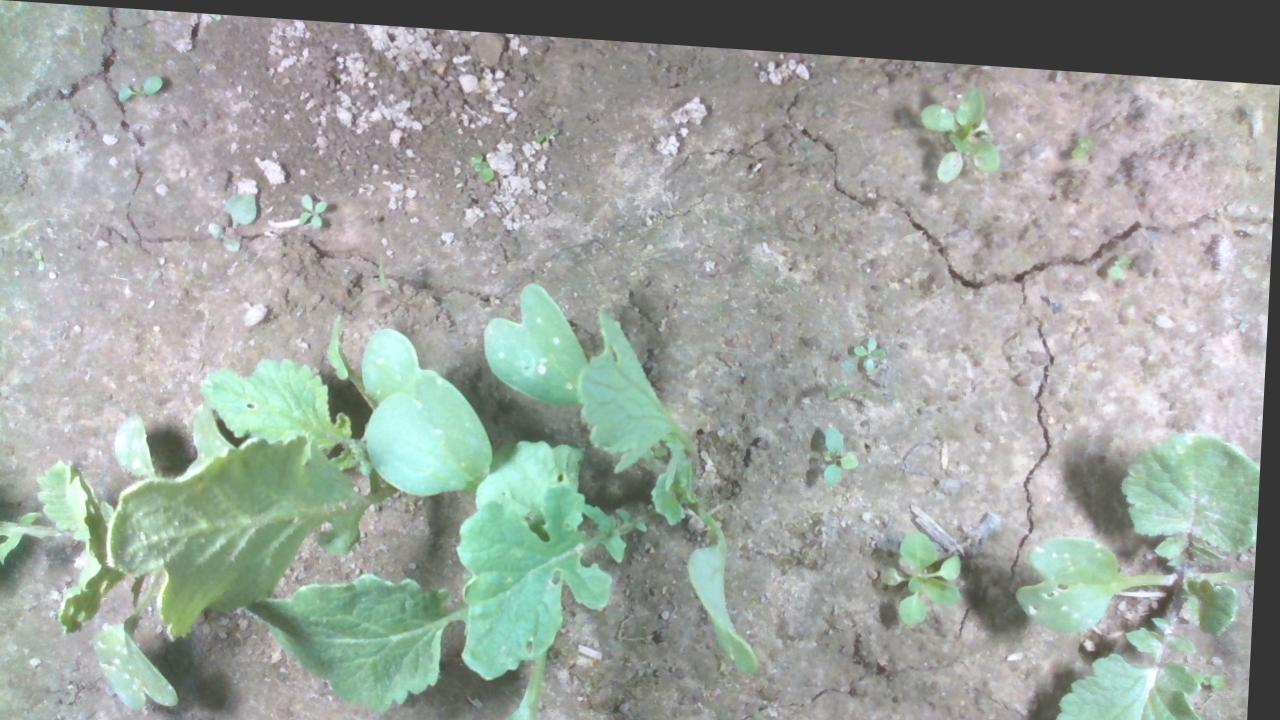weed: (102, 64, 187, 106), (820, 405, 868, 474), (843, 317, 899, 376), (210, 181, 258, 247), (293, 181, 349, 230), (449, 138, 497, 174), (1065, 114, 1099, 152), (1107, 234, 1142, 269)
